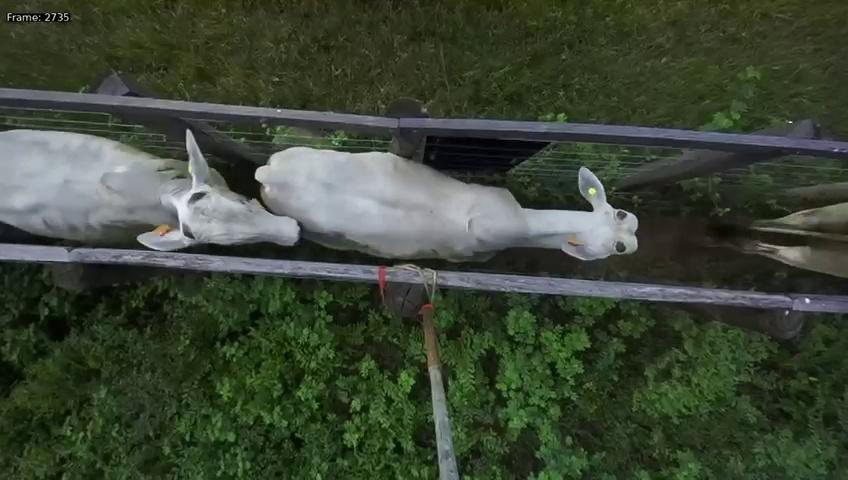cattle: (251, 124, 641, 263), (0, 118, 307, 257)
